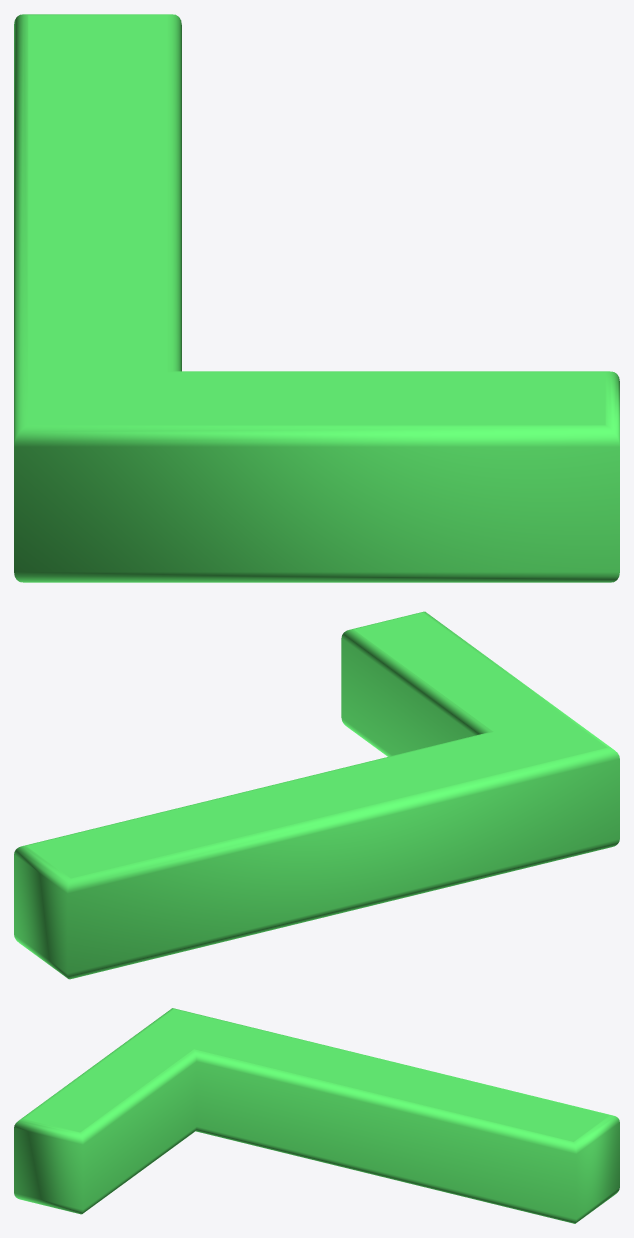
The model's file is Toy51.fbx.
3 views of the same model, one above another, from view 1: azimuth 30°, elevation 25°; view 2: azimuth 150°, elevation 25°; view 3: azimuth 270°, elevation 25° (orthographic). The views are drawn at different scales.
Parts seen in each view (by area): view 1: Toy51; view 2: Toy51; view 3: Toy51.
Part boxes in pixels (bbox=[...]): Toy51: bbox=[14, 14, 619, 582]; Toy51: bbox=[14, 611, 619, 979]; Toy51: bbox=[14, 1008, 619, 1223].
Size of the model in its own units: 0.1043 by 0.0279 by 0.1889.
